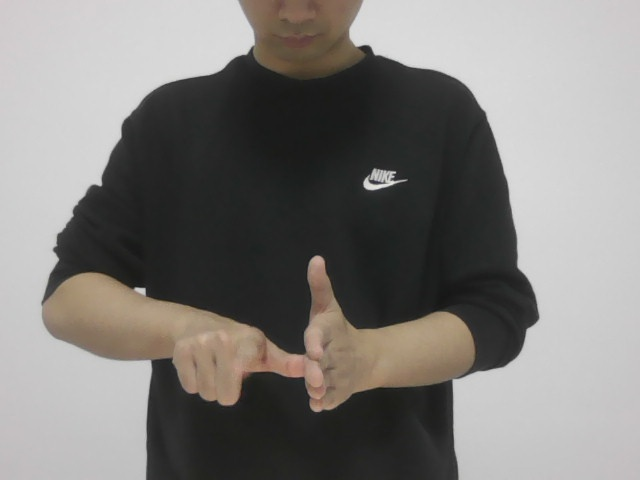time: (155, 249, 389, 422)
